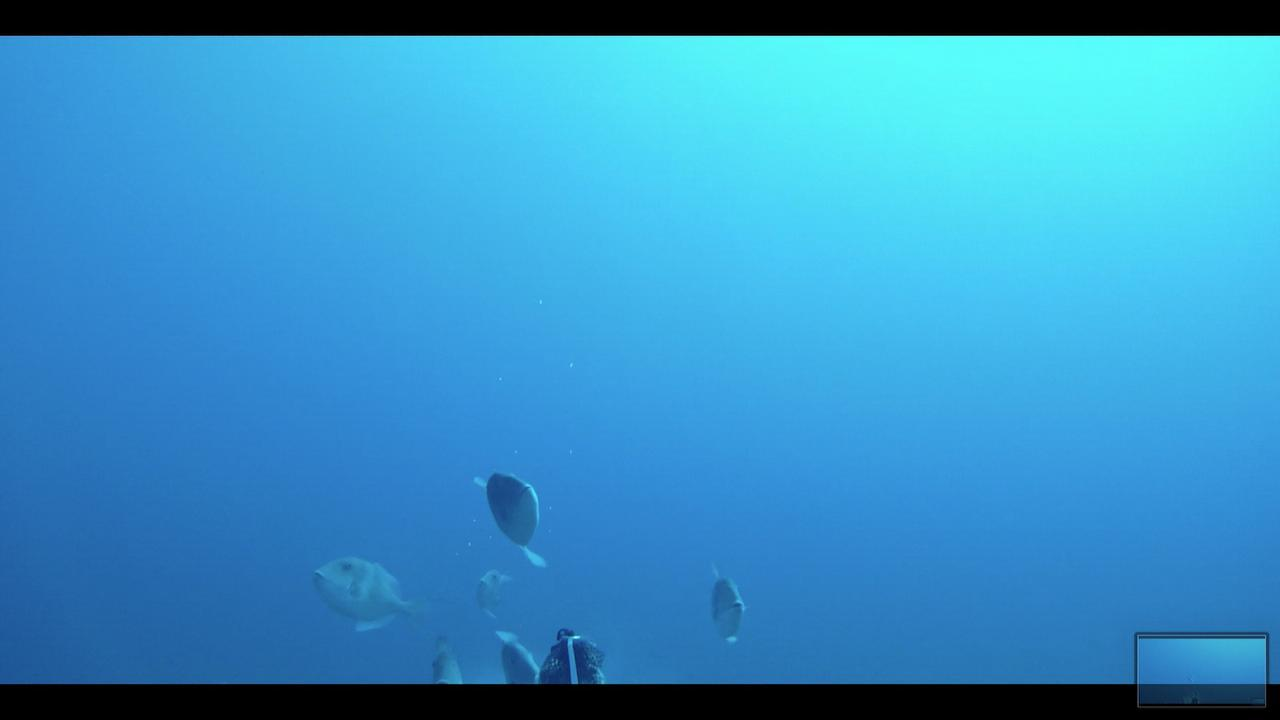balistes: (296, 544, 445, 634), (465, 464, 562, 576), (694, 551, 758, 648)
